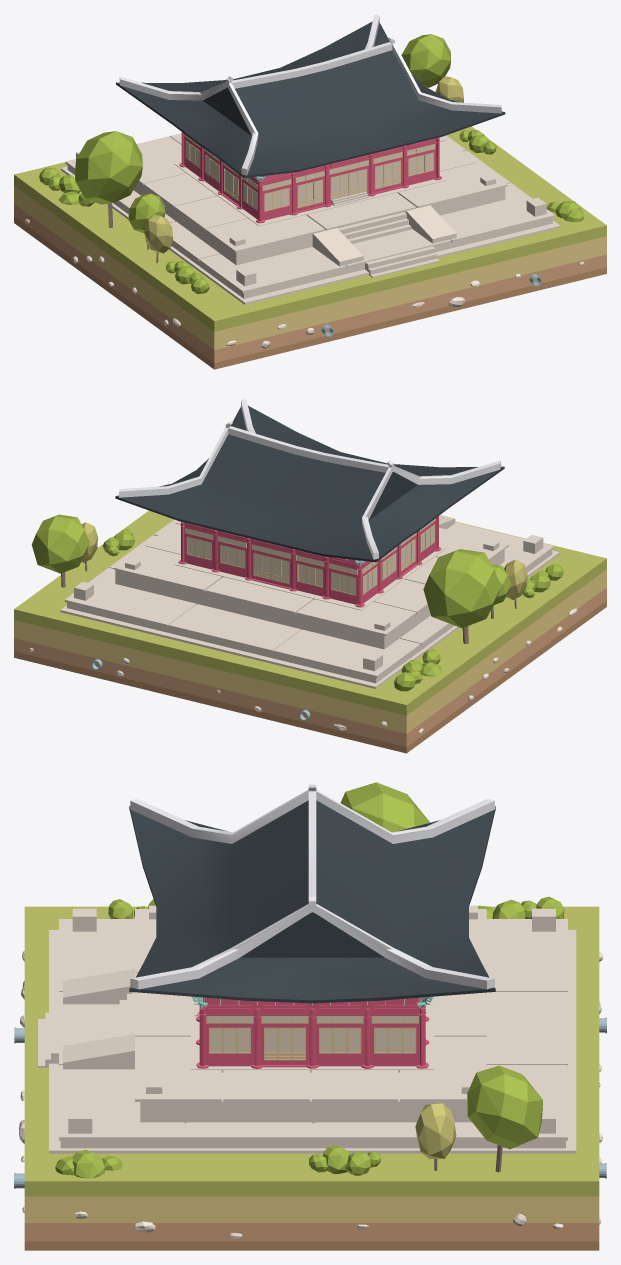
The model's file is cartoon_lowpoly_deoksugung_palace_landmark.glb.
3 views of the same model, one above another, from view 1: azimuth 30°, elevation 25°; view 2: azimuth 150°, elevation 25°; view 3: azimuth 270°, elevation 25° (orthographic). The views are drawn at different scales.
Parts seen in each view (by area): view 1: Floor, Building, Tree_3_26, Cube_2, Cube, Cube_14, Cube_3, Cube_21, Cube_29, Cube_1, Cube_25, Tree_3_1 (+21 smaller); view 2: Floor, Building, Tree_3_26, Cube, Cube_9, Cube_13, Cube_17, Cube_3, Tree_3_1, Cube_1, Cube_24, Cube_32 (+14 smaller); view 3: Building, Floor, Cube, Cube_3, Cube_14, Cube_13, Cube_9, Tree_3_1, Cube_29, Cube_1, Cube_2, Cube_32 (+23 smaller).
Part boxes in pixels (x1=…): Floor: x1=14, y1=126, x2=606, y2=369; Building: x1=116, y1=14, x2=505, y2=223; Tree_3_26: x1=74, y1=131, x2=142, y2=227; Cube_2: x1=199, y1=247, x2=345, y2=293; Cube: x1=134, y1=182, x2=505, y2=265; Cube_14: x1=440, y1=183, x2=555, y2=242; Cube_3: x1=61, y1=166, x2=560, y2=304; Cube_21: x1=205, y1=215, x2=325, y2=252; Cube_29: x1=398, y1=162, x2=507, y2=207; Cube_1: x1=67, y1=137, x2=552, y2=298; Cube_25: x1=307, y1=192, x2=416, y2=230; Tree_3_1: x1=401, y1=34, x2=450, y2=87; Floor: x1=14, y1=510, x2=606, y2=753; Building: x1=115, y1=398, x2=504, y2=607; Tree_3_26: x1=423, y1=549, x2=501, y2=643; Cube: x1=115, y1=549, x2=504, y2=649; Cube_9: x1=274, y1=629, x2=420, y2=677; Cube_13: x1=169, y1=604, x2=301, y2=652; Cube_17: x1=64, y1=567, x2=196, y2=626; Cube_3: x1=60, y1=550, x2=559, y2=688; Tree_3_1: x1=31, y1=514, x2=89, y2=587; Cube_1: x1=67, y1=535, x2=552, y2=683; Cube_24: x1=296, y1=599, x2=416, y2=635; Cube_32: x1=114, y1=546, x2=222, y2=591; Building: x1=129, y1=784, x2=495, y2=1068; Floor: x1=24, y1=906, x2=599, y2=1250; Cube: x1=140, y1=1072, x2=471, y2=1123; Cube_3: x1=49, y1=930, x2=576, y2=1153; Cube_14: x1=59, y1=1065, x2=184, y2=1140; Cube_13: x1=486, y1=992, x2=567, y2=1065; Cube_9: x1=486, y1=919, x2=567, y2=991; Tree_3_1: x1=467, y1=1065, x2=542, y2=1172; Cube_29: x1=135, y1=1036, x2=221, y2=1101; Cube_1: x1=60, y1=1065, x2=565, y2=1148; Cube_2: x1=59, y1=919, x2=134, y2=991; Cube_32: x1=400, y1=1036, x2=486, y2=1101.
Size of the model in its own units: 14545 by 6389 by 12569.
